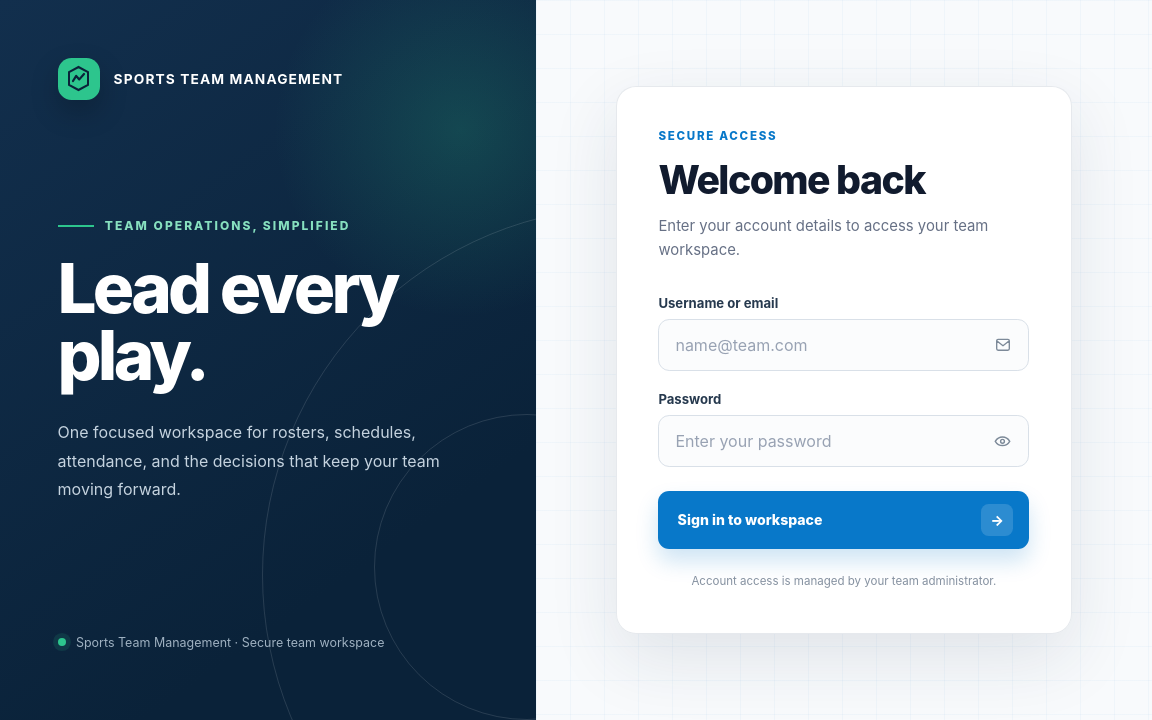
Test: Sprint 1 authentication flow › blocks the API request when required credentials are missing
Click the button "Sign in to workspace →" at {"x": 750, "y": 520}, box [658,491,1029,548]
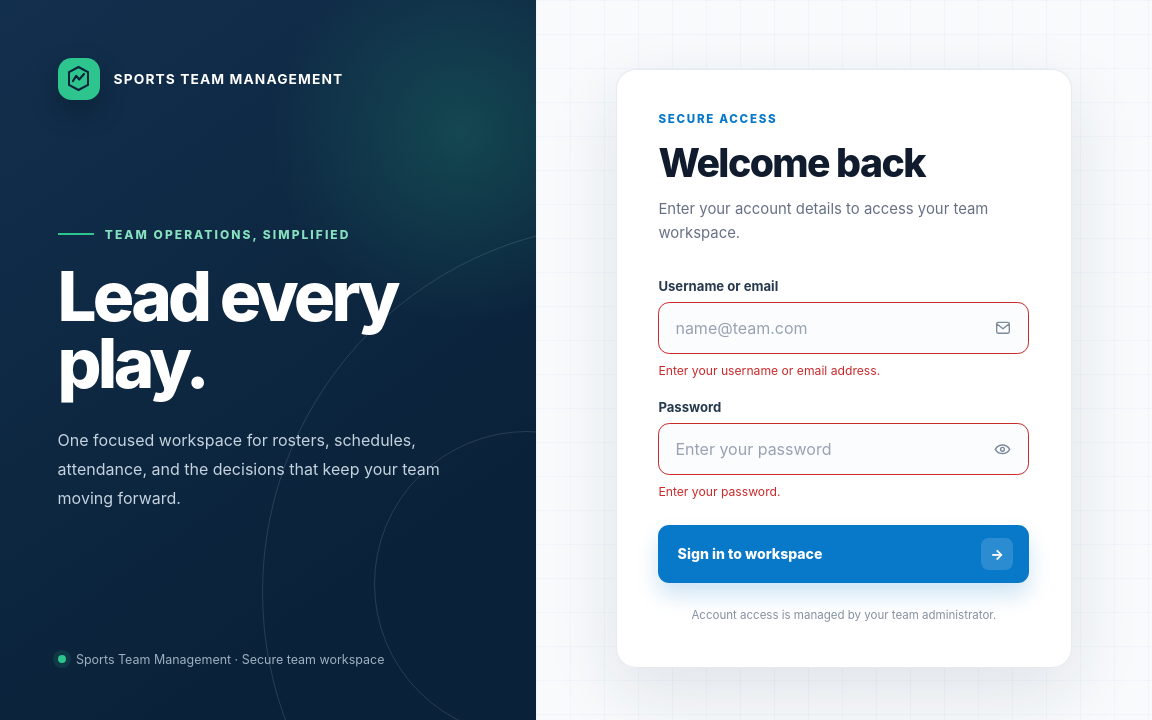
Result: the text "Enter your username or email address." is shown at [658,363,880,378]
Result: the text "Enter your password." is shown at [658,484,780,499]
